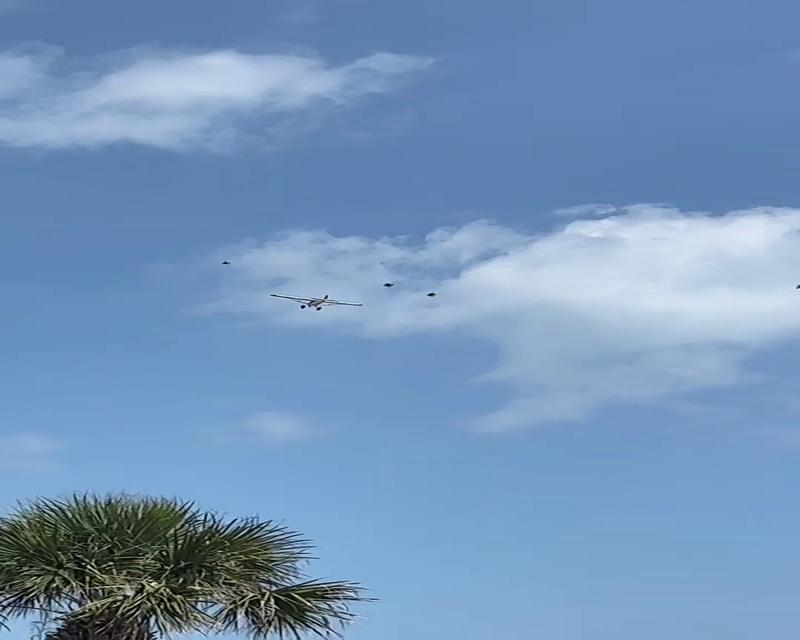UAV: (270, 293, 362, 312)
